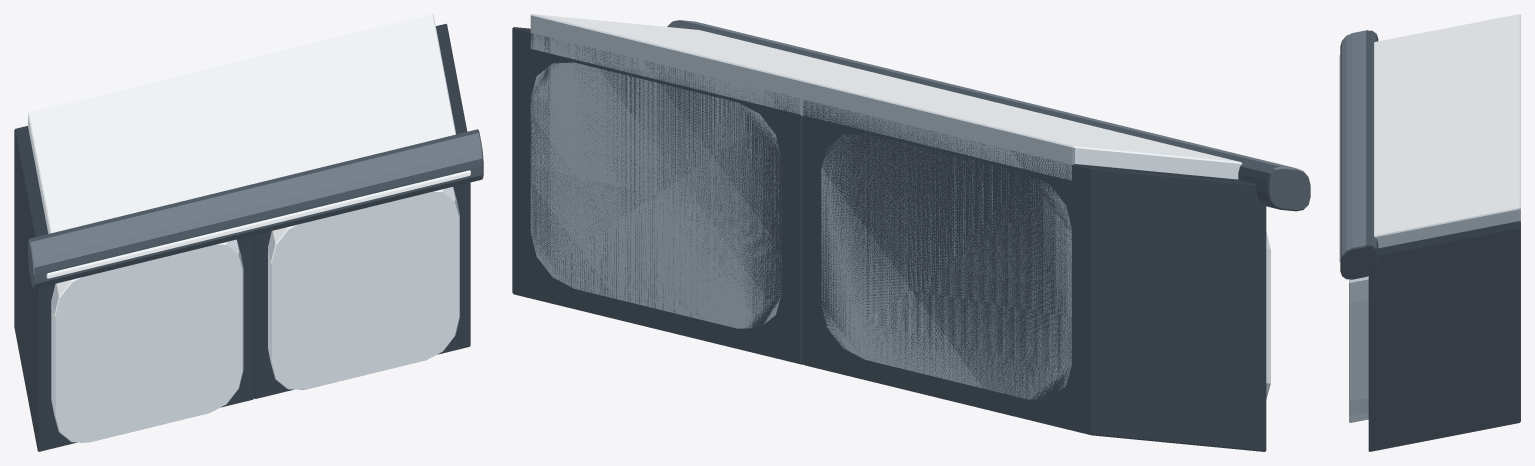
File: Terrain_TopRun2LR.gltf
3 views of the same model, side by side, from view 1: azimuth 30°, elevation 25°; view 2: azimuth 150°, elevation 25°; view 3: azimuth 270°, elevation 25° (orthographic). The views are drawn at different scales.
Parts seen in each view (by area): view 1: Terrain_TopRun2LR_baked; view 2: Terrain_TopRun2LR_baked; view 3: Terrain_TopRun2LR_baked.
Part boxes in pixels (left/top/right/bottom): Terrain_TopRun2LR_baked: left=14, top=14, right=483, bottom=451; Terrain_TopRun2LR_baked: left=512, top=14, right=1310, bottom=451; Terrain_TopRun2LR_baked: left=1339, top=14, right=1520, bottom=451.
Size of the model in its own units: 2.33 by 1.18 by 0.74.
